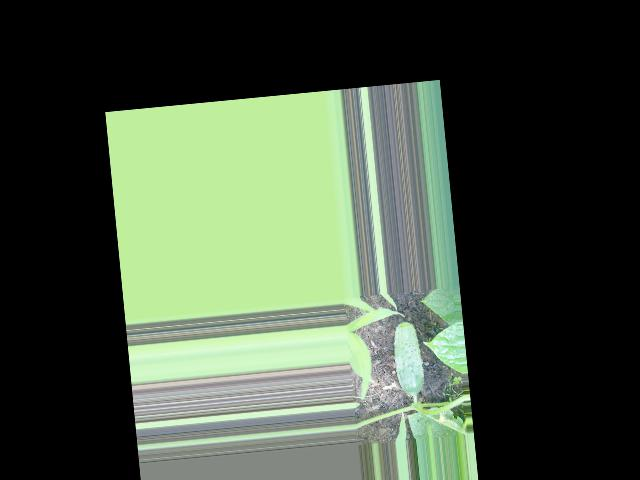cucumber: (390, 319, 425, 396)
